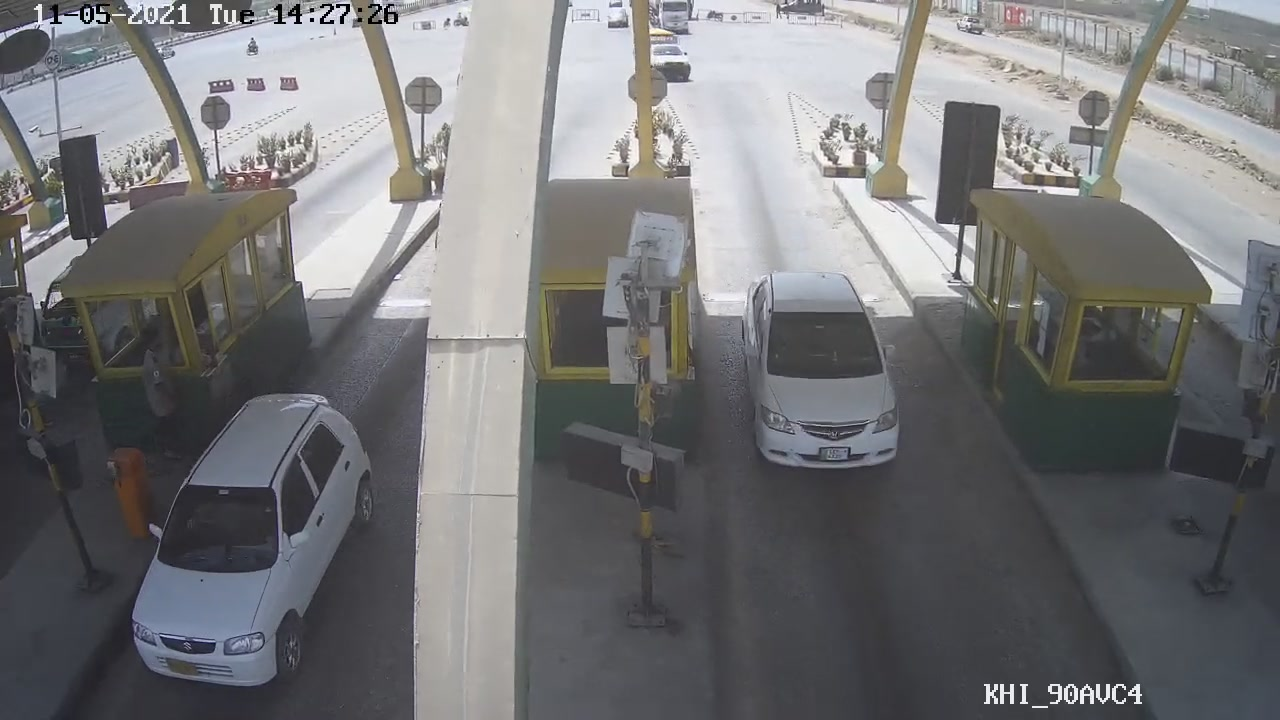F1: (733, 268, 907, 473)
